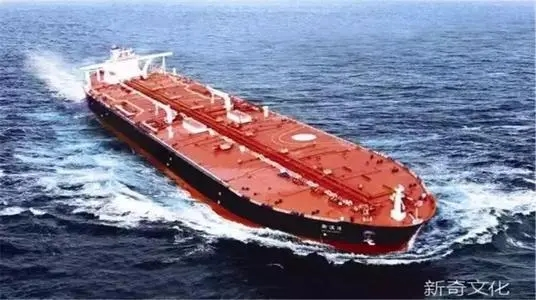Cargoship: (81, 37, 444, 254)
